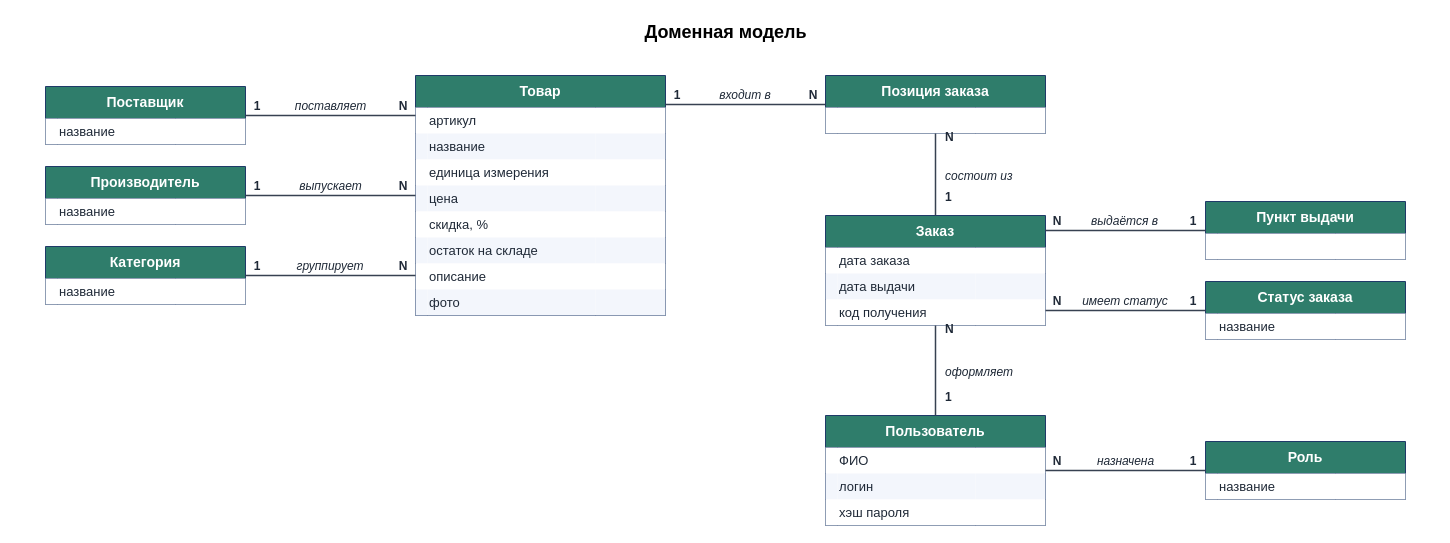
Image size: 1450x543. Some labels were removed from this diagram. The centre of each missing label's shape, as x and y in pixels:
"адрес" belongs at point 1276,246.
"количество" belongs at point 906,120.
